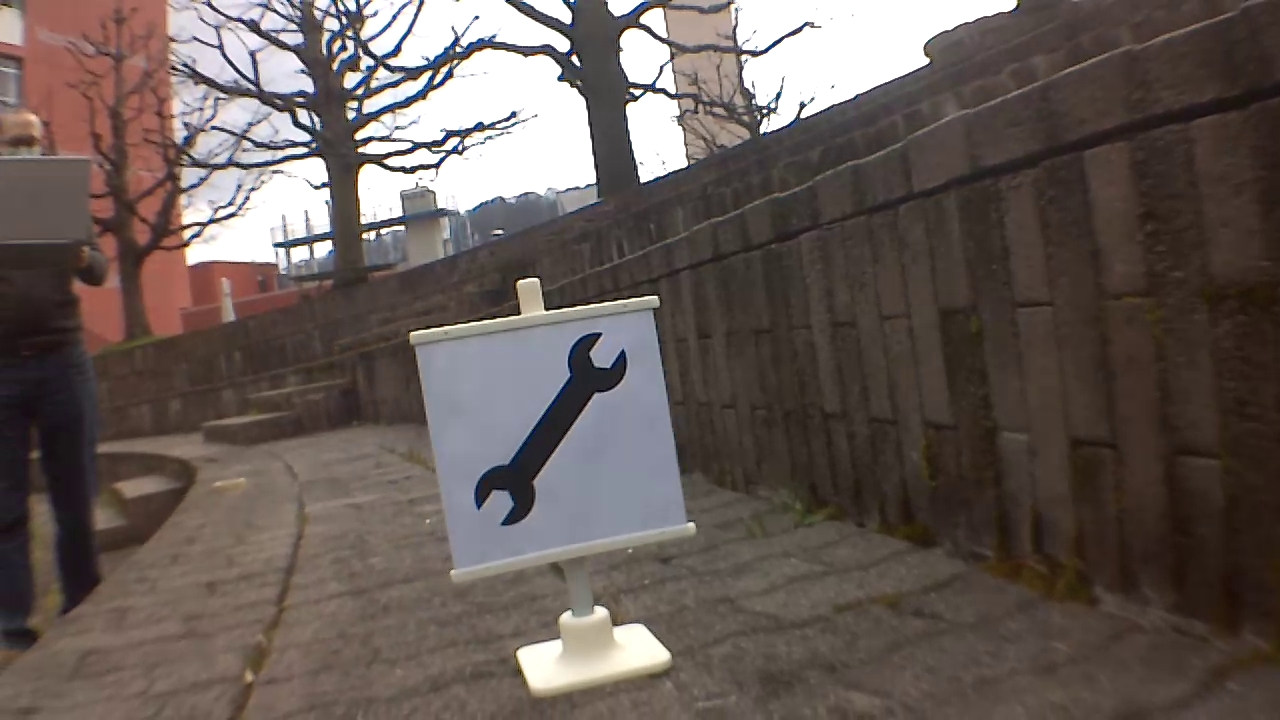wrench: (475, 330, 635, 528)
